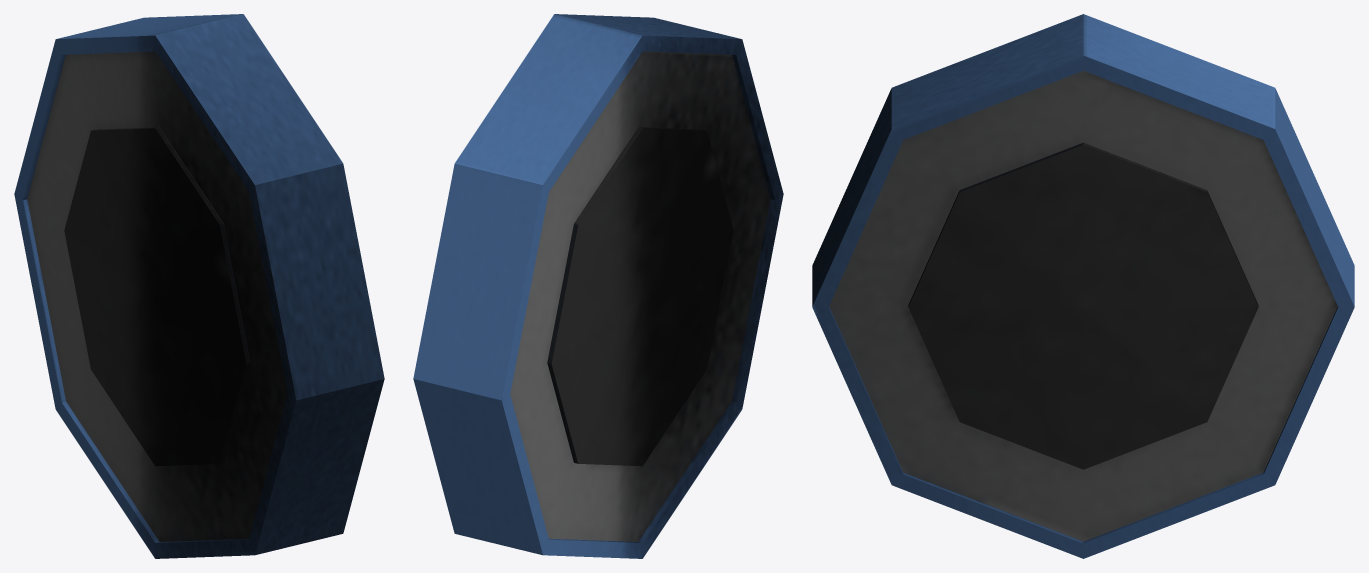
Rendered from WheelSide.obj.
3 renders of one model, left to right at view 1: azimuth 30°, elevation 25°; view 2: azimuth 150°, elevation 25°; view 3: azimuth 270°, elevation 25°, orthographic. The views are drawn at different scales.
Parts seen in each view (by area): view 1: WheelSide_Cube.002; view 2: WheelSide_Cube.002; view 3: WheelSide_Cube.002.
Boxes of the visible parts, box(x1,y1,x2,y2) form: WheelSide_Cube.002: box(14, 14, 384, 558); WheelSide_Cube.002: box(413, 14, 783, 558); WheelSide_Cube.002: box(812, 14, 1354, 558).
Bounding box in the file's own units: 0.0248 × 0.1257 × 0.1227.
Materials: 1 (1 with a texture image).
